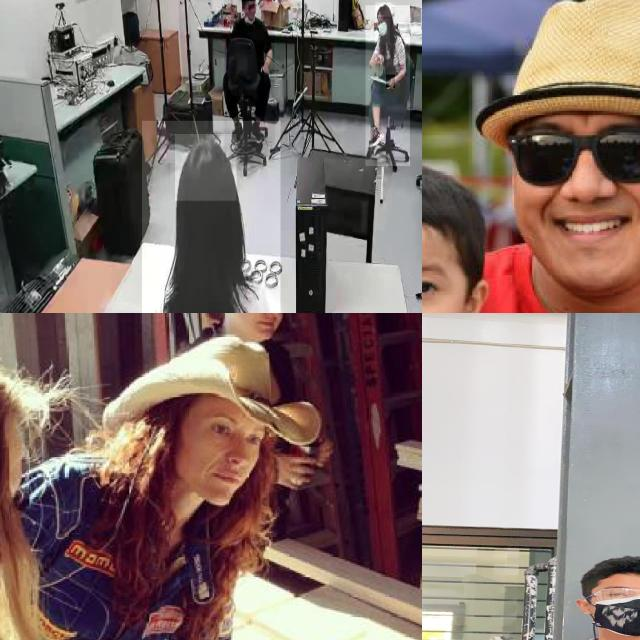No_Ear-Protection: (460, 278, 488, 313)
No_Glasses: (422, 255, 454, 309)
face_mask: (587, 581, 640, 635), (375, 18, 390, 44)
face_nomask: (509, 119, 640, 259), (198, 415, 263, 495), (242, 2, 256, 20)
glasses: (497, 127, 640, 189), (579, 584, 640, 604)
hand_noglove: (272, 444, 318, 490), (386, 74, 396, 88), (374, 52, 384, 66), (259, 62, 269, 75)
head_nohelmet: (481, 8, 640, 141), (156, 336, 298, 424), (175, 134, 237, 202), (422, 162, 467, 242), (579, 550, 640, 587), (376, 2, 392, 18)
person: (45, 334, 302, 640), (472, 0, 640, 313), (142, 120, 281, 313), (422, 158, 543, 313), (456, 549, 640, 640), (224, 0, 275, 162), (366, 5, 410, 167)
shoes: (229, 118, 245, 144), (249, 118, 264, 144), (368, 125, 384, 146)
